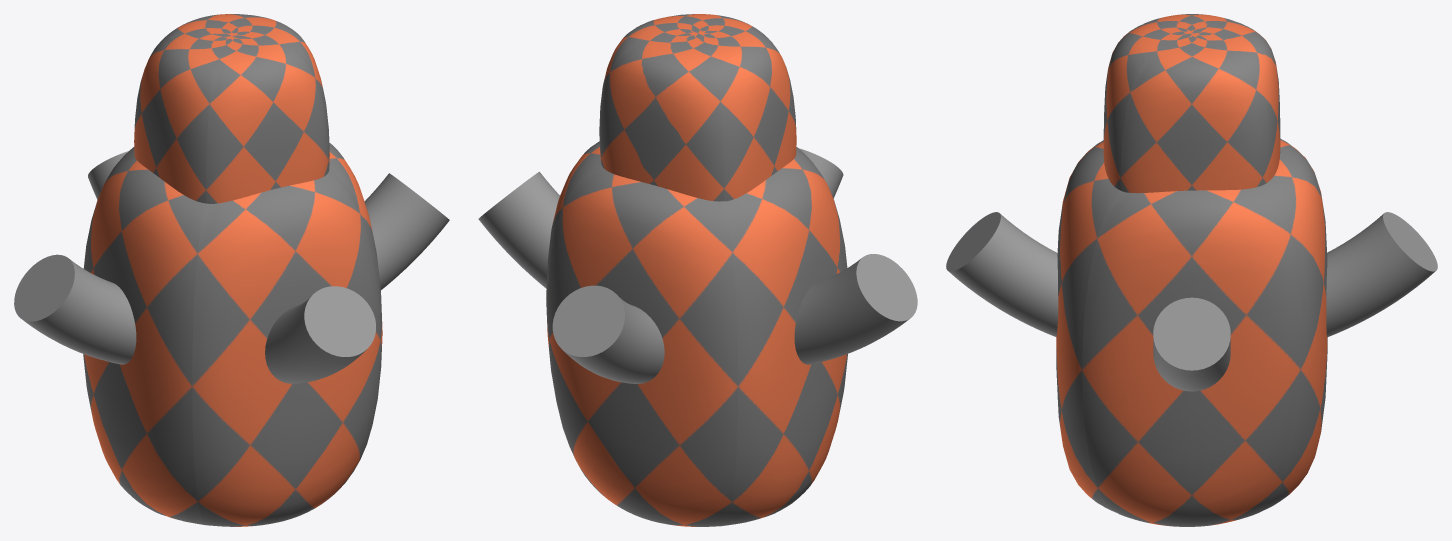
File: Body(Oblong)+Colour(More_Orange)+Pattern(Diamond)+Arm_Angle(Bent_Up)+Hat(Oblong).fbx
3 renders of one model, left to right at view 1: azimuth 30°, elevation 25°; view 2: azimuth 150°, elevation 25°; view 3: azimuth 270°, elevation 25°, orthographic.
Visible parts, largest first — view 1: Body(Oblong)+Colour(More_Orange)+Pattern(Diamond)+Arm_Angle( (×6); view 2: Body(Oblong)+Colour(More_Orange)+Pattern(Diamond)+Arm_Angle( (×6); view 3: Body(Oblong)+Colour(More_Orange)+Pattern(Diamond)+Arm_Angle( (×5).
Boxes of the visible parts, x1,y1,x2,y2 form: Body(Oblong)+Colour(More_Orange)+Pattern(Diamond)+Arm_Angle( (×6): [14, 14, 449, 526]; Body(Oblong)+Colour(More_Orange)+Pattern(Diamond)+Arm_Angle( (×6): [478, 14, 917, 526]; Body(Oblong)+Colour(More_Orange)+Pattern(Diamond)+Arm_Angle( (×5): [946, 14, 1437, 526].
Bounding box in the file's own units: 50.67 × 53 × 50.67.
Materials: 2 (1 with a texture image).
